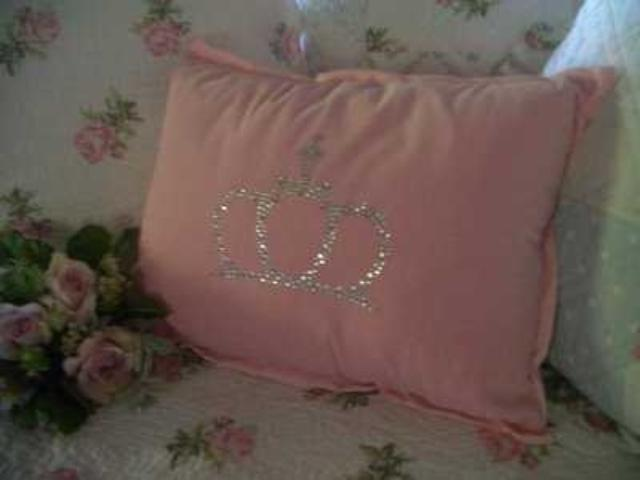pillow: (134, 40, 622, 450)
